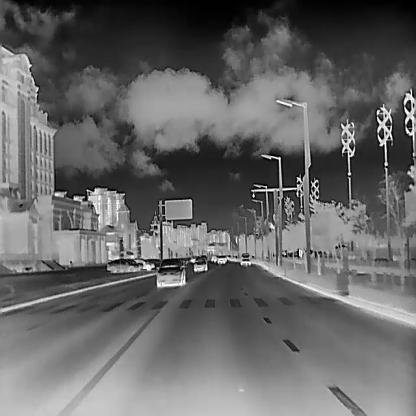car: (156, 257, 185, 288), (106, 257, 137, 272), (133, 257, 154, 270), (193, 254, 208, 271), (239, 252, 251, 264), (217, 254, 227, 264), (189, 255, 196, 264), (211, 253, 217, 262)
